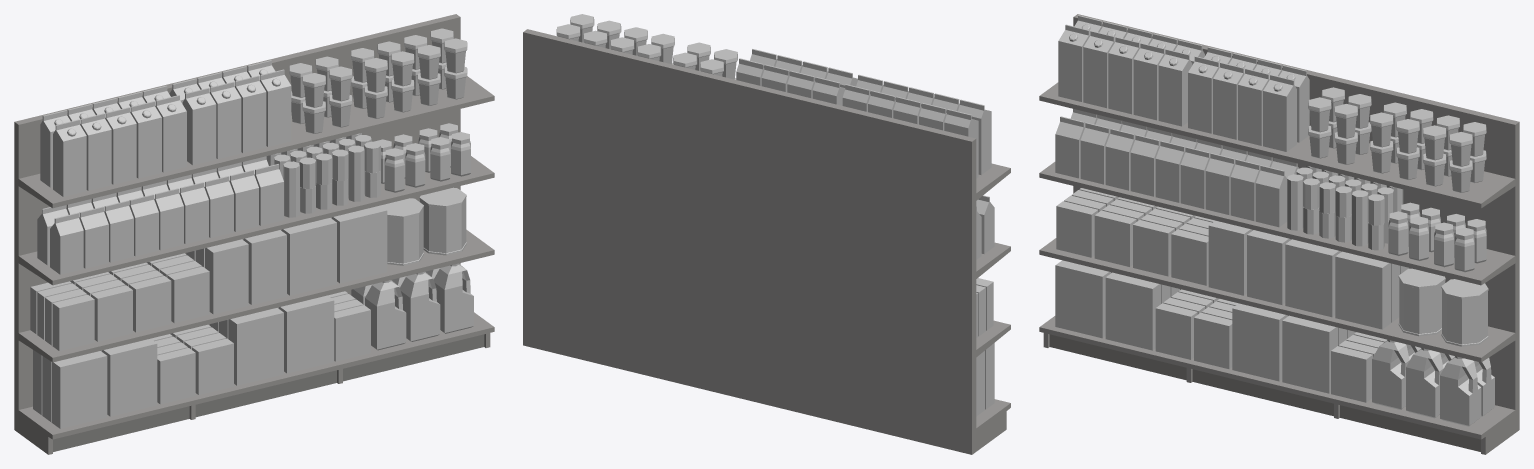
File: SM_Props_Interior_SuperMarket_Shelves_Large_Preset_01.fbx
The picture shows the model from 3 angles, left to right: view 1: azimuth 30°, elevation 25°; view 2: azimuth 150°, elevation 25°; view 3: azimuth 330°, elevation 25°; orthographic projection.
Visible parts, largest first — view 1: SM_Props_Interior_SuperMarket_Shelves_Large_Preset_01_Produc, SM_Props_Interior_SuperMarket_Shelves_Large_Preset_01; view 2: SM_Props_Interior_SuperMarket_Shelves_Large_Preset_01, SM_Props_Interior_SuperMarket_Shelves_Large_Preset_01_Produc; view 3: SM_Props_Interior_SuperMarket_Shelves_Large_Preset_01_Produc, SM_Props_Interior_SuperMarket_Shelves_Large_Preset_01.
Boxes of the visible parts, x1,y1,x2,y2 form: SM_Props_Interior_SuperMarket_Shelves_Large_Preset_01_Produc: (30,28,473,428); SM_Props_Interior_SuperMarket_Shelves_Large_Preset_01: (14,14,494,454); SM_Props_Interior_SuperMarket_Shelves_Large_Preset_01: (523,29,1010,454); SM_Props_Interior_SuperMarket_Shelves_Large_Preset_01_Produc: (556,14,994,416); SM_Props_Interior_SuperMarket_Shelves_Large_Preset_01_Produc: (1055,15,1494,426); SM_Props_Interior_SuperMarket_Shelves_Large_Preset_01: (1039,14,1519,454).
Size of the model in its own units: 300 by 208 by 45.
